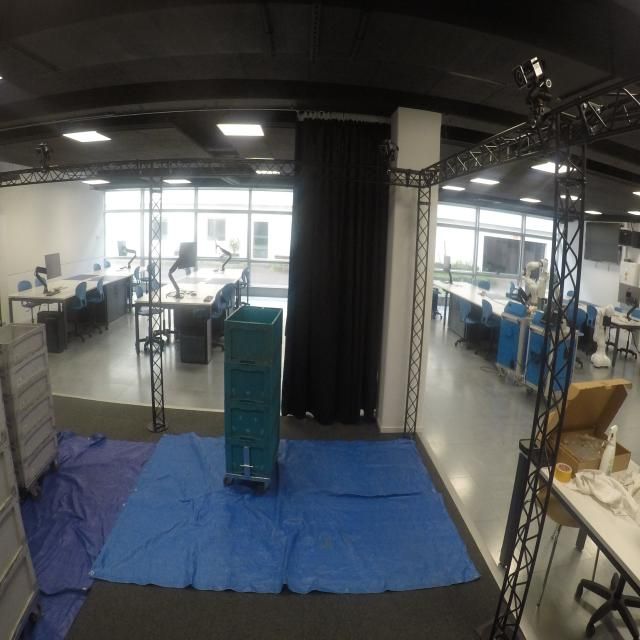BoxB4: (224, 306, 283, 364), (222, 361, 282, 404), (223, 400, 281, 440), (224, 438, 282, 478)
